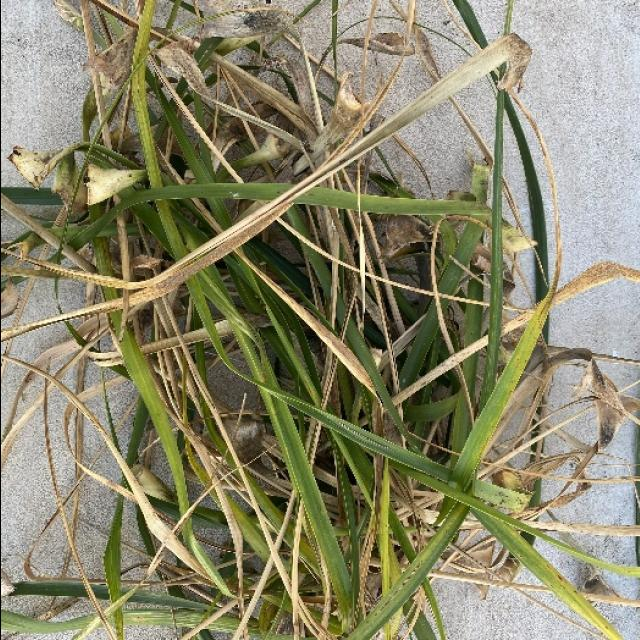organik: (39, 63, 585, 640)
